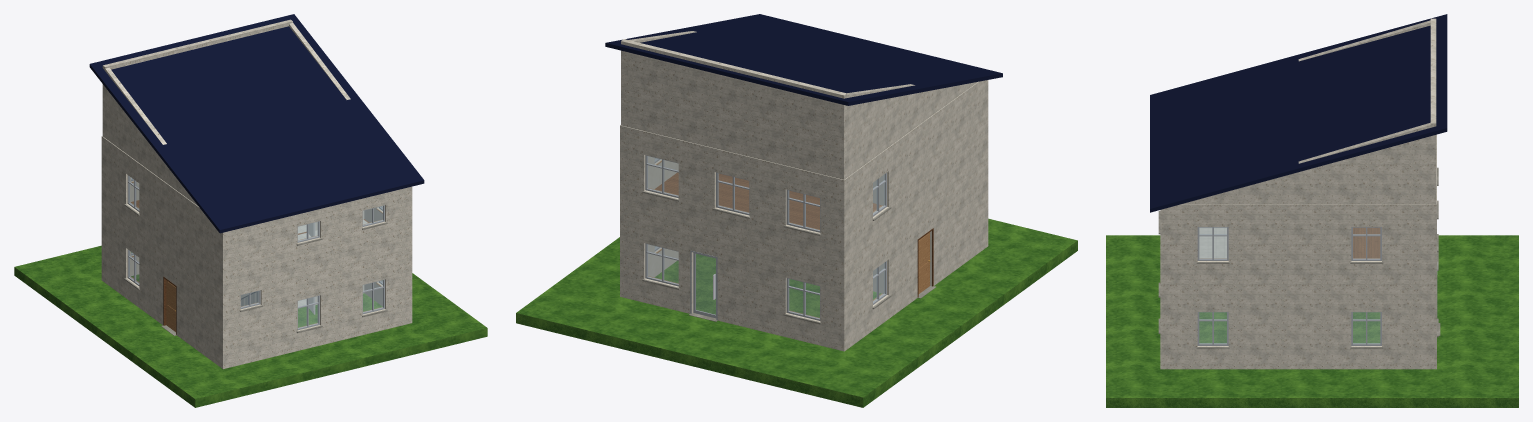
The model's file is b_solar_row_house.gltf.
The picture shows the model from 3 angles, left to right: view 1: azimuth 30°, elevation 25°; view 2: azimuth 150°, elevation 25°; view 3: azimuth 270°, elevation 25°; orthographic projection. The views are drawn at different scales.
Visible parts, largest first — view 1: S_solar_row_house, D_solar_row_house_F1_E1_Door0; view 2: S_solar_row_house, D_solar_row_house_F1_S2_Door0, D_solar_row_house_F1_E1_Door0; view 3: S_solar_row_house.
Part boxes in pixels (box(x1,y1,x2,y2)): S_solar_row_house: box(14, 14, 487, 407); D_solar_row_house_F1_E1_Door0: box(166, 280, 175, 331); S_solar_row_house: box(516, 14, 1077, 407); D_solar_row_house_F1_S2_Door0: box(693, 252, 716, 318); D_solar_row_house_F1_E1_Door0: box(918, 232, 930, 293); S_solar_row_house: box(1106, 14, 1518, 407).
Bounding box in the file's own units: 14 × 10.25 × 15.
Materials: 19 (11 with a texture image).
